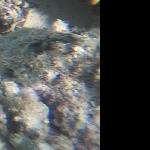dead: (1, 1, 98, 148)
